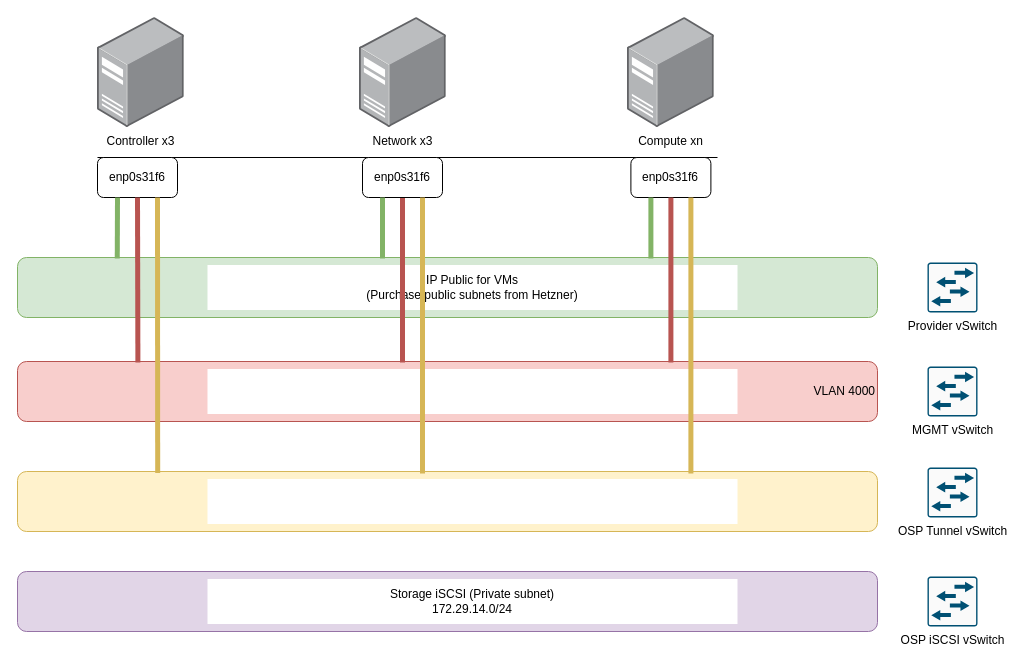
Some shapes in this 1024 by 664 pixel diagram are drawn without their labels. Here are the shapes that lost their labels. From the top down, the box of each, then its label:
(16, 256, 878, 318): VLAN 4050
(207, 368, 737, 414): Management + Internal API (Private subnet) 172.29.12.0/24
(16, 470, 878, 532): VLAN 4001
(207, 478, 737, 524): Tunnel Network (Private subnet) 172.29.13.0/24
(16, 570, 878, 632): VLAN 4002
